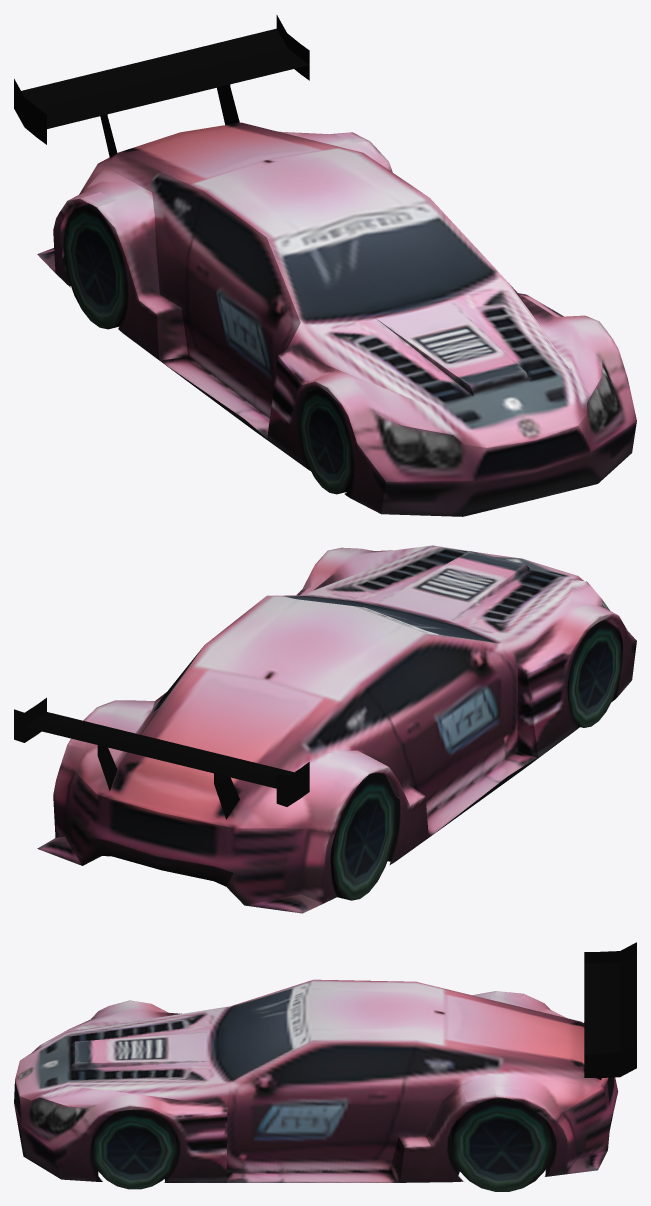
Rendered from ps1-car.glb.
3 renders of one model, top to bottom at view 1: azimuth 30°, elevation 25°; view 2: azimuth 150°, elevation 25°; view 3: azimuth 270°, elevation 25°, orthographic. The views are drawn at different scales.
Visible parts, largest first — view 1: Body_4, Spolier.001_6, RR_3, FR_1; view 2: Body_4, Spolier.001_6, RR_3, FR_1, Floor_5; view 3: Body_4, RL_2, Spolier.001_6, FL_0, Floor_5.
Boxes of the visible parts, <box> form: Body_4: <box>37,122,636,516</box>; Spolier.001_6: <box>14,15,309,157</box>; RR_3: <box>63,204,128,329</box>; FR_1: <box>299,388,354,494</box>; Body_4: <box>37,545,636,913</box>; Spolier.001_6: <box>14,697,309,819</box>; RR_3: <box>330,775,396,900</box>; FR_1: <box>567,621,621,727</box>; Floor_5: <box>368,671,620,861</box>; Body_4: <box>14,979,618,1182</box>; RL_2: <box>452,1097,552,1191</box>; Spolier.001_6: <box>584,942,636,1079</box>; FL_0: <box>92,1109,177,1189</box>; Floor_5: <box>90,1127,555,1181</box>.
Bounding box in the file's own units: 0.7679 × 0.4919 × 1.9.
Materials: 2 (1 with a texture image).
